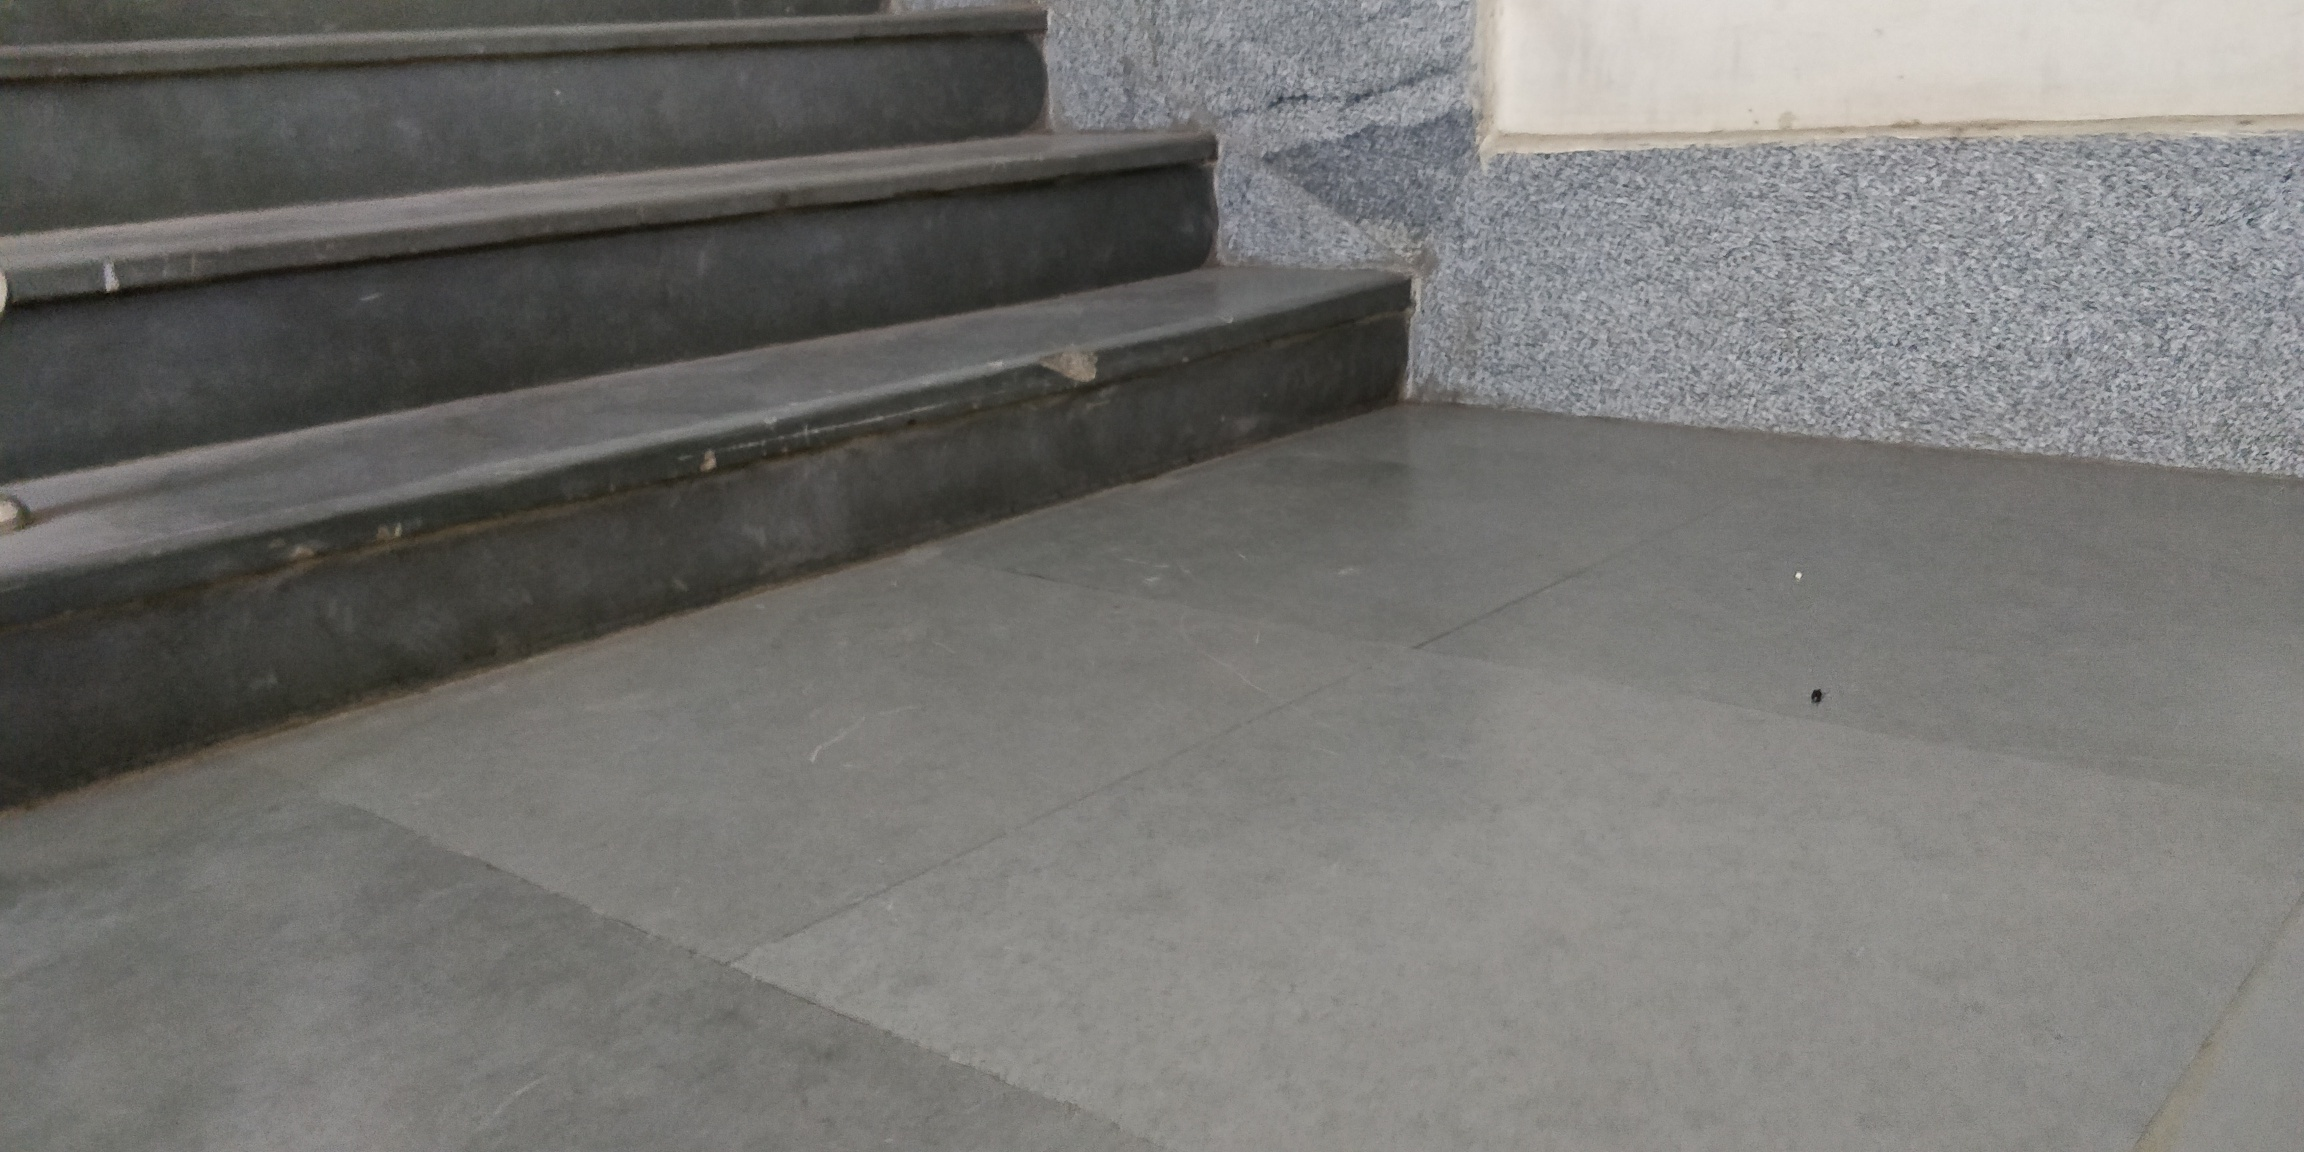stairs_up: (1, 1, 1444, 802)
